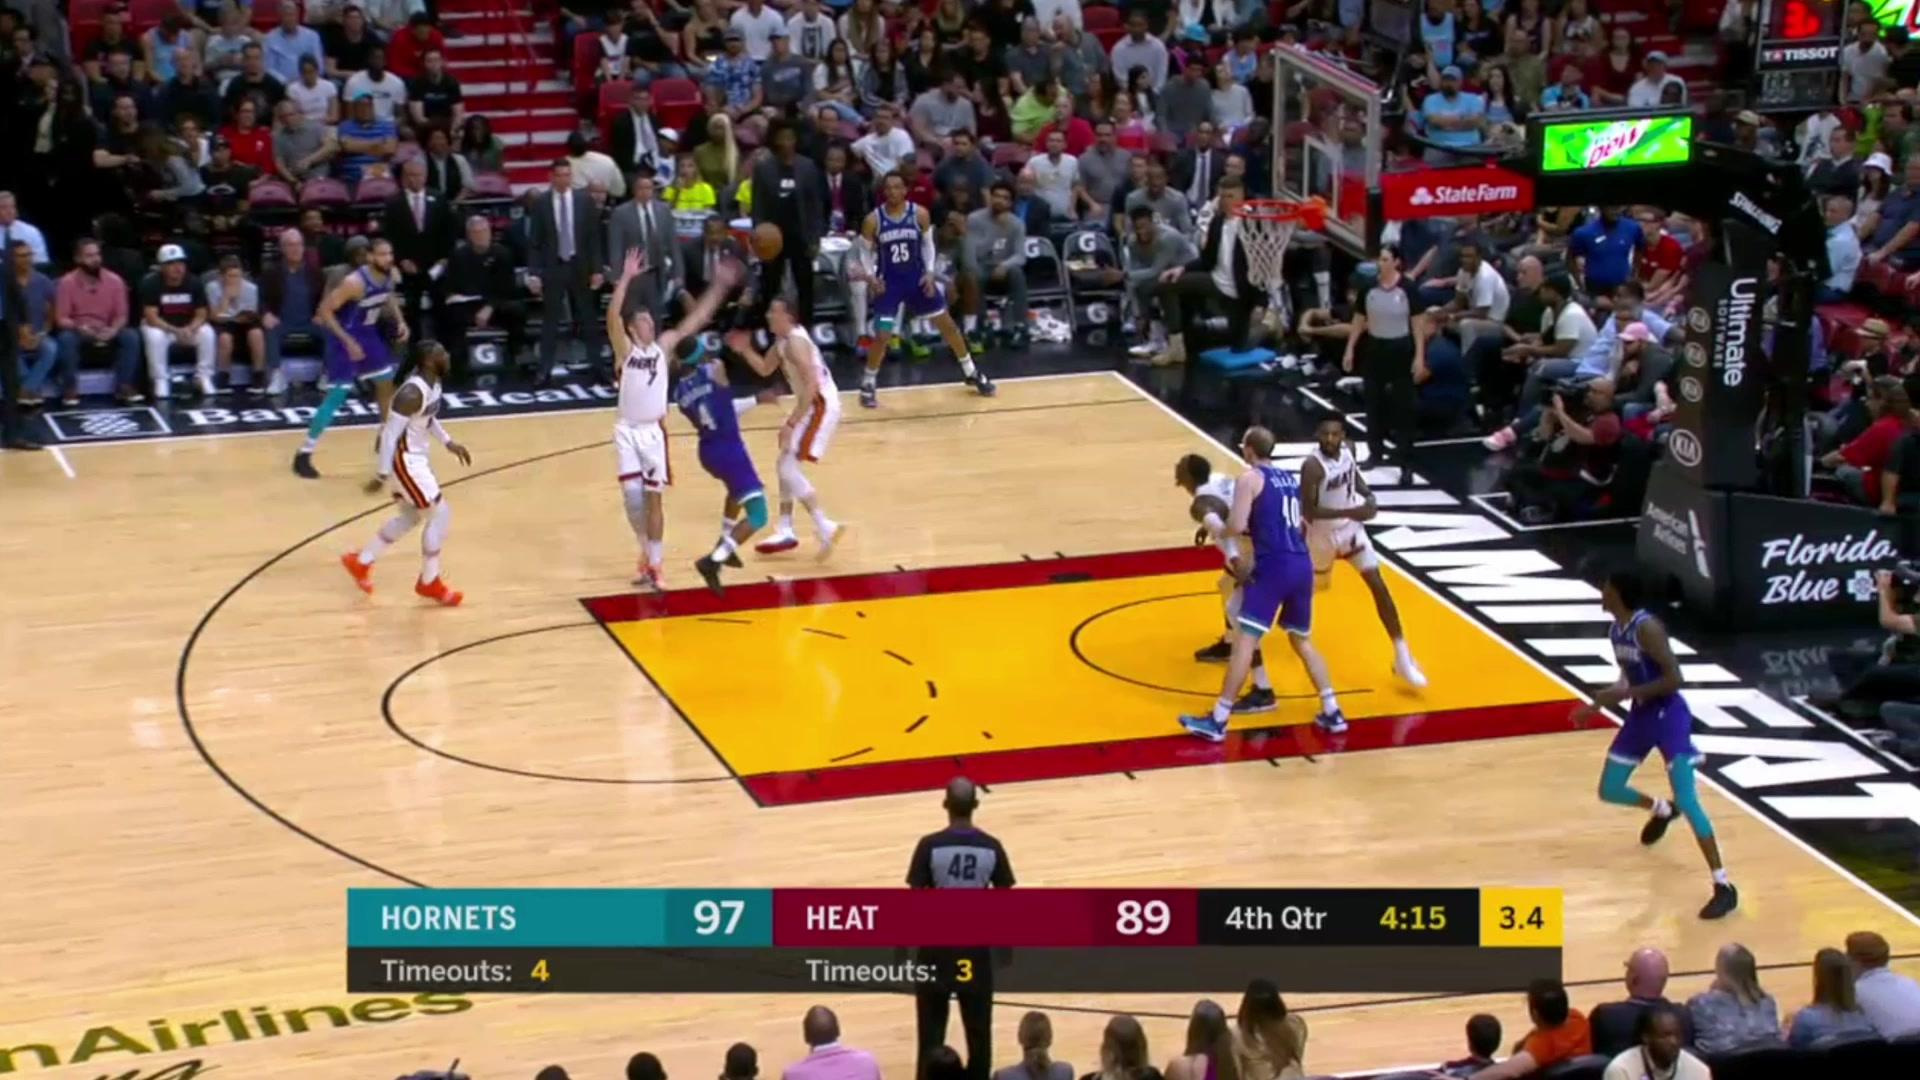no_foul: (608, 305, 824, 568)
